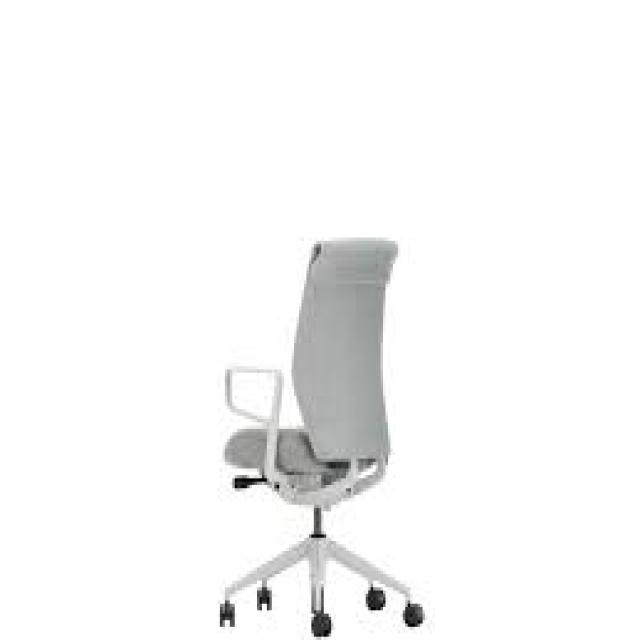chair: (164, 173, 460, 640)
